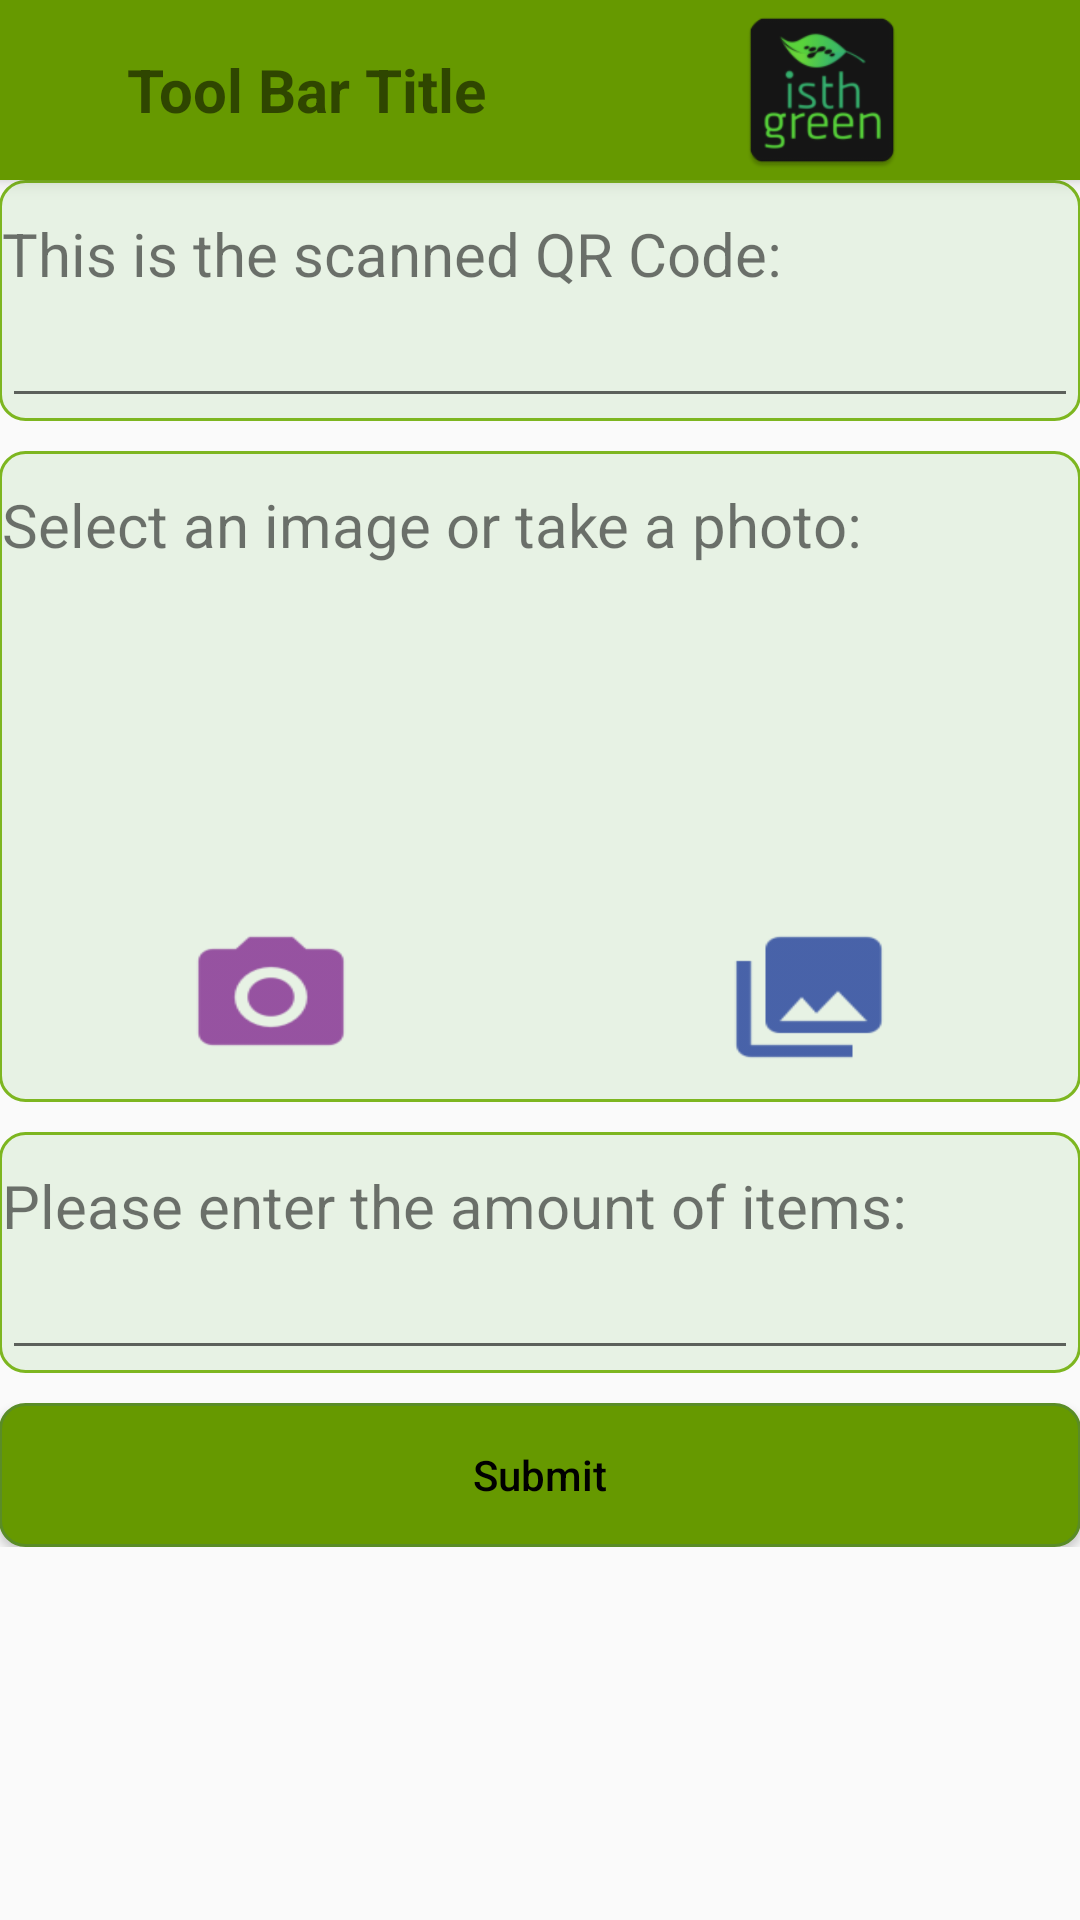

Locate icon controls on the screen. Image size 1080 x 1920, boxes as (x1=x1, y1=y1, x2=x2, y2=y2).
camera: (x1=198, y1=936, x2=344, y2=1046)
